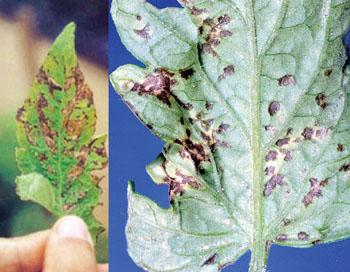Tomato leaf late blight: (110, 4, 350, 272), (11, 18, 108, 258)
